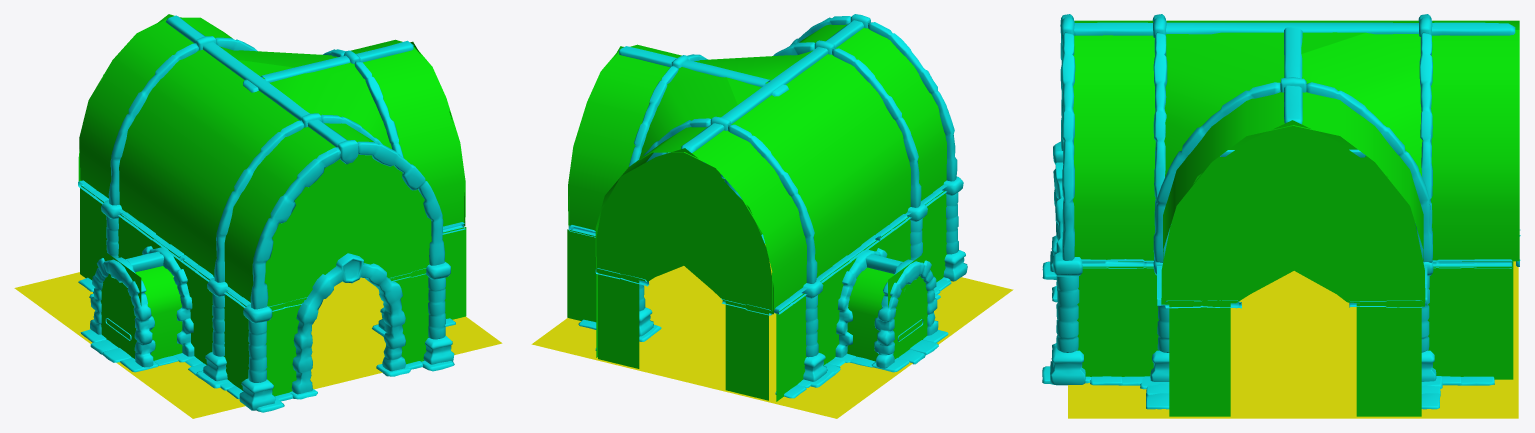
Rendered from Hallway_TSection_4.fbx.
3 views of the same model, side by side, from view 1: azimuth 30°, elevation 25°; view 2: azimuth 150°, elevation 25°; view 3: azimuth 270°, elevation 25° (orthographic). The views are drawn at different scales.
Visible parts, largest first — view 1: Room_T_4:TSection4FinishedRoomsWalls1, Room_T_4:TSection4FinishedRoomsFrame, Room_T_4:Floor1TSection4FinishedRooms; view 2: Room_T_4:TSection4FinishedRoomsWalls1, Room_T_4:TSection4FinishedRoomsFrame, Room_T_4:Floor1TSection4FinishedRooms; view 3: Room_T_4:TSection4FinishedRoomsWalls1, Room_T_4:TSection4FinishedRoomsFrame, Room_T_4:Floor1TSection4FinishedRooms.
Part boxes in pixels (x1,y1,x2,y2): Room_T_4:TSection4FinishedRoomsWalls1: (78, 14, 466, 396); Room_T_4:TSection4FinishedRoomsFrame: (78, 15, 465, 412); Room_T_4:Floor1TSection4FinishedRooms: (14, 272, 502, 418); Room_T_4:TSection4FinishedRoomsWalls1: (567, 24, 947, 401); Room_T_4:TSection4FinishedRoomsFrame: (568, 14, 967, 398); Room_T_4:Floor1TSection4FinishedRooms: (531, 244, 1013, 418); Room_T_4:TSection4FinishedRoomsWalls1: (1073, 20, 1519, 416); Room_T_4:TSection4FinishedRoomsFrame: (1042, 14, 1520, 409); Room_T_4:Floor1TSection4FinishedRooms: (1068, 261, 1518, 418).
Size of the model in its own units: 1213 by 897 by 1274.
